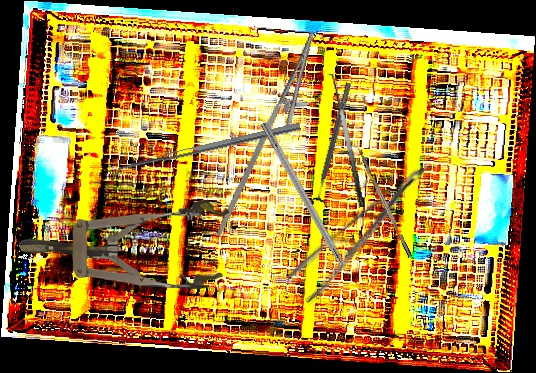Chopper: (349, 141, 413, 261)
Dressing Forceps: (283, 163, 446, 306)
Fixation Ring: (308, 80, 359, 209)
Hook Surgical: (258, 121, 361, 293)
Needle Holder: (215, 24, 331, 250)
Spatula Surgical: (108, 122, 303, 182), (321, 72, 366, 210)
Speculum: (19, 200, 229, 289)
